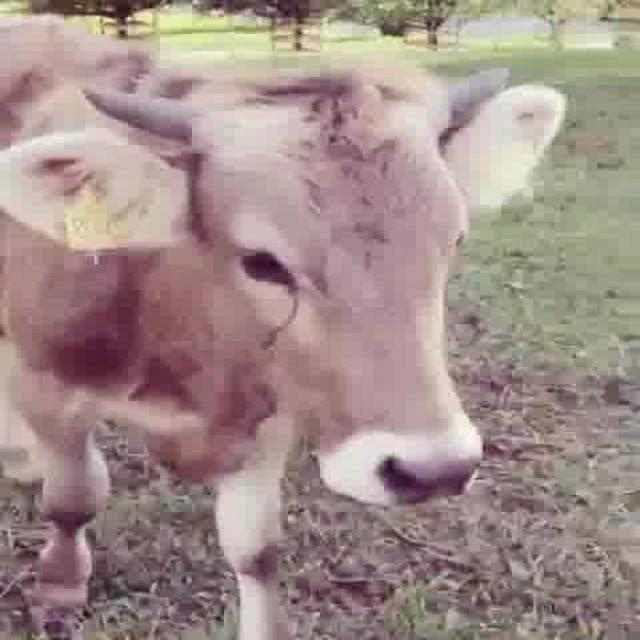cowFace: (7, 52, 572, 516)
